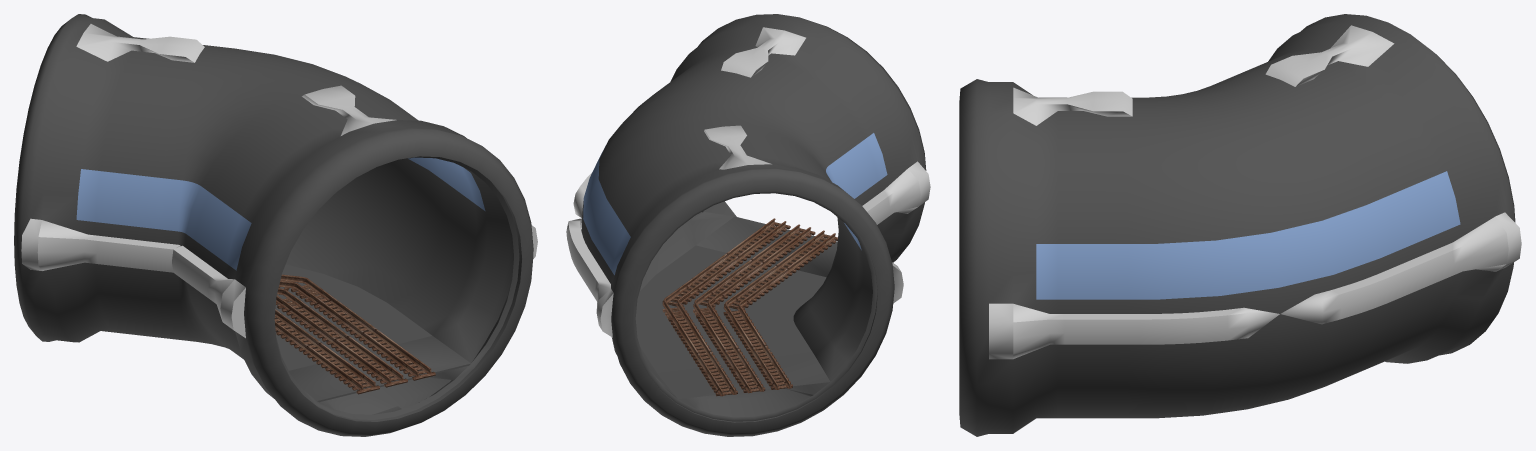
File: subw_left.fbx
The picture shows the model from 3 angles, left to right: view 1: azimuth 30°, elevation 25°; view 2: azimuth 150°, elevation 25°; view 3: azimuth 270°, elevation 25°; orthographic projection. The views are drawn at different scales.
Visible parts, largest first — view 1: subw_L_tube, subw_L_LaM, subw_L_LaR, subw_L_LaL, subw_L_LaR_curve; view 2: subw_L_tube, subw_L_LaM, subw_L_LaR, subw_L_LaL, subw_L_LaR_curve, subw_L_LaM_curve; view 3: subw_L_tube.
Boxes of the visible parts, x1,y1,x2,y2 form: subw_L_tube: [14, 14, 537, 436]; subw_L_LaM: [281, 297, 407, 387]; subw_L_LaR: [309, 290, 435, 380]; subw_L_LaL: [274, 309, 379, 394]; subw_L_LaR_curve: [278, 274, 323, 302]; subw_L_tube: [566, 14, 930, 436]; subw_L_LaM: [696, 224, 815, 393]; subw_L_LaR: [668, 218, 790, 396]; subw_L_LaL: [723, 230, 837, 389]; subw_L_LaR_curve: [662, 288, 695, 318]; subw_L_LaM_curve: [693, 294, 719, 315]; subw_L_tube: [959, 14, 1521, 436].
Size of the model in its own units: 256 by 185 by 290.
Materials: 4 (1 with a texture image).
